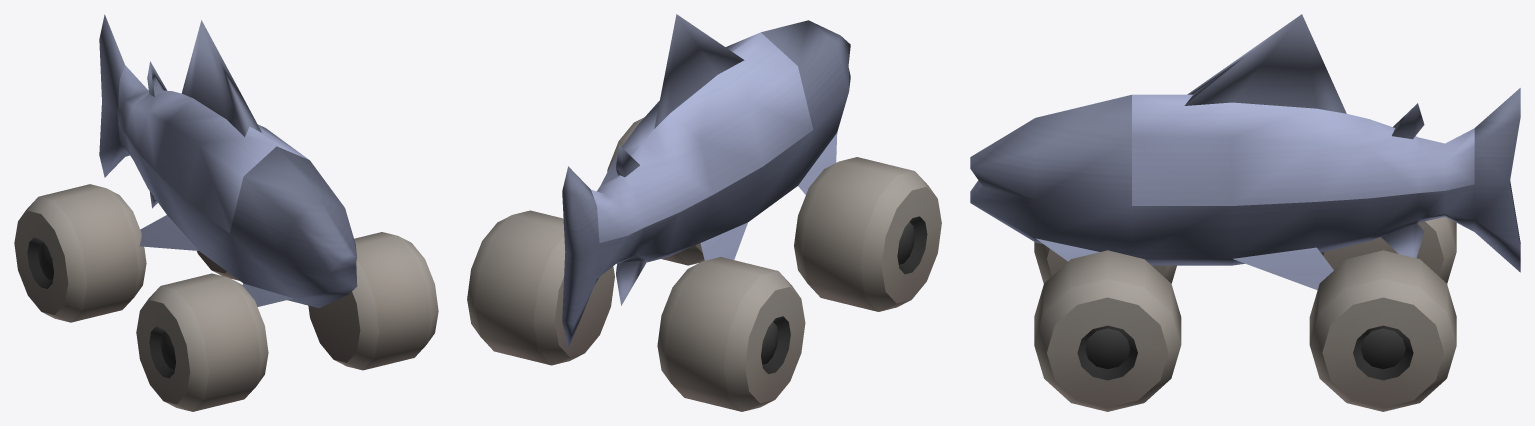
The model's file is fish_car.glb.
3 views of the same model, side by side, from view 1: azimuth 30°, elevation 25°; view 2: azimuth 150°, elevation 25°; view 3: azimuth 270°, elevation 25° (orthographic). The views are drawn at different scales.
Parts seen in each view (by area): view 1: fish, spacetruck_large_wheel_front_right_Cylinder.2693, spacetruck_large_wheel_rear_right_Cylinder.2694, spacetruck_large_wheel_front_left_Cylinder.2691; view 2: fish, spacetruck_large_wheel_rear_right_Cylinder.2694, spacetruck_large_wheel_front_right_Cylinder.2693, spacetruck_large_wheel_rear_left_Cylinder.2692, spacetruck_large_wheel_front_left_Cylinder.2691; view 3: fish, spacetruck_large_wheel_front_left_Cylinder.2691, spacetruck_large_wheel_rear_left_Cylinder.2692, spacetruck_large_wheel_rear_right_Cylinder.2694, spacetruck_large_wheel_front_right_Cylinder.2693.
Part boxes in pixels (x1,y1,x2,y2): fish: (99, 14, 357, 308); spacetruck_large_wheel_front_right_Cylinder.2693: (136, 273, 268, 411); spacetruck_large_wheel_rear_right_Cylinder.2694: (14, 184, 146, 322); spacetruck_large_wheel_front_left_Cylinder.2691: (308, 232, 438, 370); fish: (562, 14, 850, 348); spacetruck_large_wheel_rear_right_Cylinder.2694: (657, 257, 805, 411); spacetruck_large_wheel_front_right_Cylinder.2693: (794, 157, 941, 311); spacetruck_large_wheel_rear_left_Cylinder.2692: (467, 210, 614, 365); spacetruck_large_wheel_front_left_Cylinder.2691: (607, 117, 704, 265); fish: (970, 14, 1520, 290); spacetruck_large_wheel_front_left_Cylinder.2691: (1034, 250, 1181, 411); spacetruck_large_wheel_rear_left_Cylinder.2692: (1309, 250, 1456, 411); spacetruck_large_wheel_rear_right_Cylinder.2694: (1321, 217, 1456, 283); spacetruck_large_wheel_front_right_Cylinder.2693: (1034, 242, 1176, 283).
Size of the model in its own units: 0.3672 by 0.4194 by 0.6208.
Materials: 5 (5 with a texture image).
